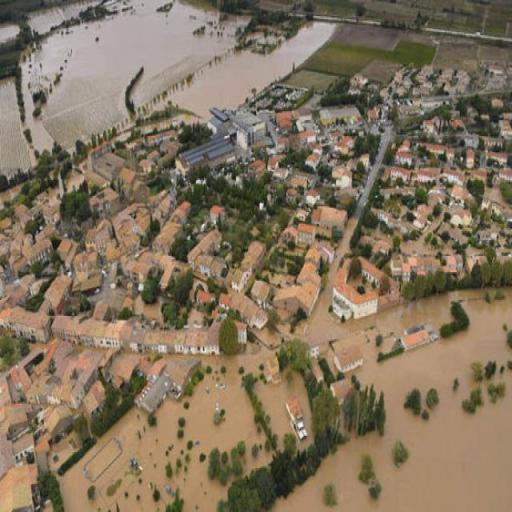flood: (0, 0, 336, 176), (271, 289, 512, 512), (58, 347, 274, 512), (298, 217, 406, 369), (259, 376, 313, 449), (250, 309, 293, 350), (142, 300, 162, 327), (187, 308, 206, 328), (0, 24, 17, 41)
house: (142, 323, 218, 360), (280, 263, 320, 325), (54, 316, 121, 348), (331, 282, 380, 324), (6, 305, 48, 347), (4, 409, 34, 467), (0, 462, 34, 511), (174, 139, 233, 165), (87, 218, 117, 264), (140, 372, 170, 414), (81, 378, 108, 424), (43, 270, 70, 315), (220, 312, 246, 356), (332, 340, 364, 373), (24, 238, 57, 268), (248, 276, 271, 311), (297, 222, 316, 244), (390, 164, 412, 180), (444, 169, 464, 184), (418, 170, 437, 183), (306, 188, 319, 204)
